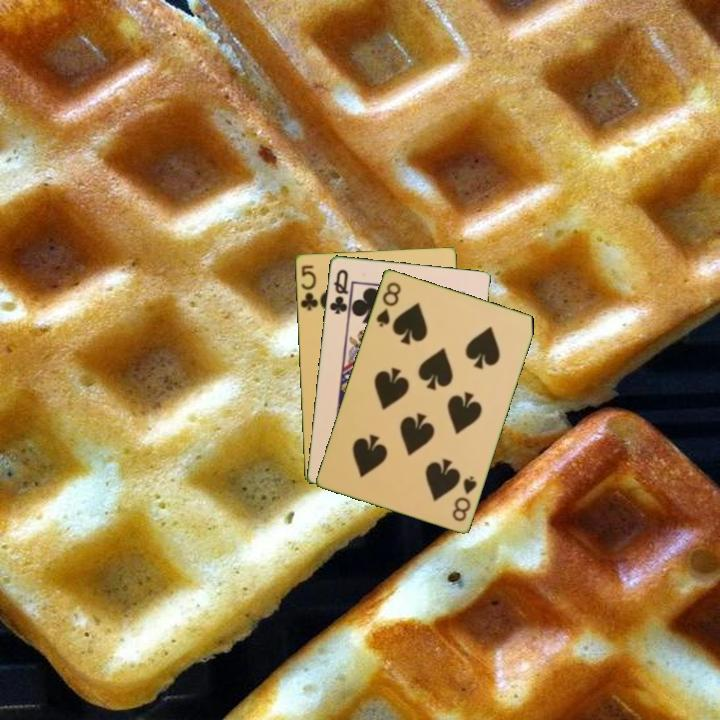5c: (297, 261, 320, 313)
8s: (372, 278, 404, 329), (448, 472, 479, 524)
Qc: (326, 265, 351, 317)
